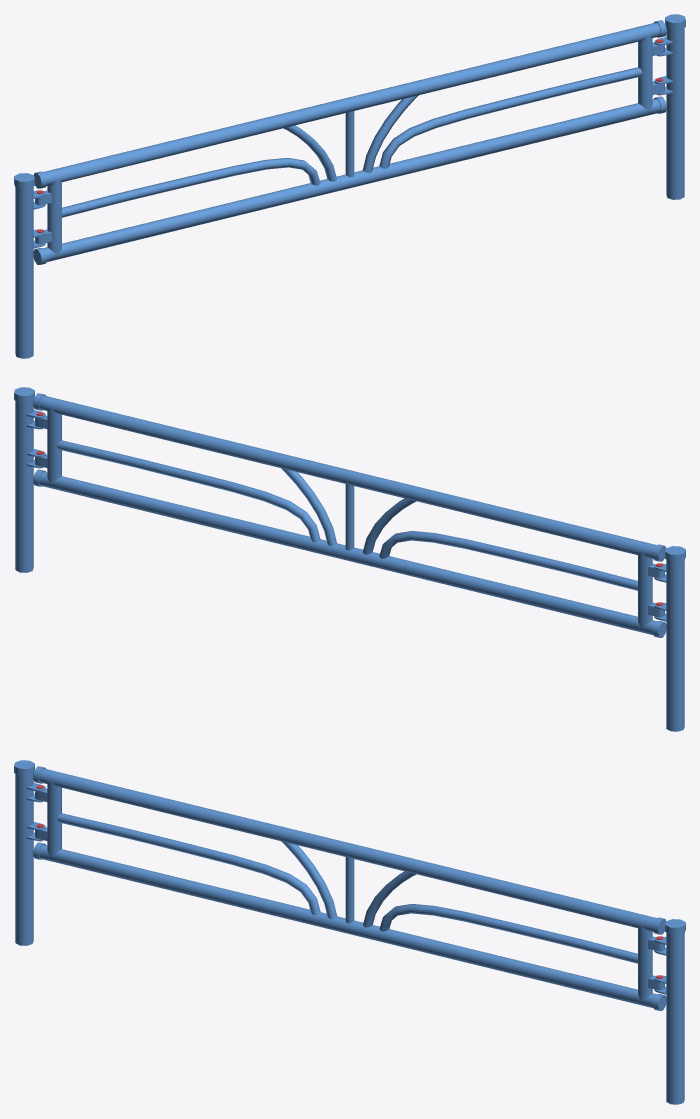
Rendered from Prop_StreetRailing_FabianZ_M.fbx.
3 views of the same model, one above another, from view 1: azimuth 30°, elevation 25°; view 2: azimuth 150°, elevation 25°; view 3: azimuth 330°, elevation 25° (orthographic).
Visible parts, largest first — view 1: StreetRailing_M; view 2: StreetRailing_M; view 3: StreetRailing_M.
Boxes of the visible parts, left/top/right/bottom form: StreetRailing_M: left=14, top=14, right=685, bottom=358; StreetRailing_M: left=14, top=387, right=685, bottom=731; StreetRailing_M: left=14, top=760, right=685, bottom=1104.
Size of the model in its own units: 340 by 86.73 by 9.53.
